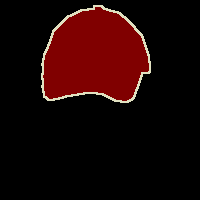hat: (42, 6, 150, 102)
